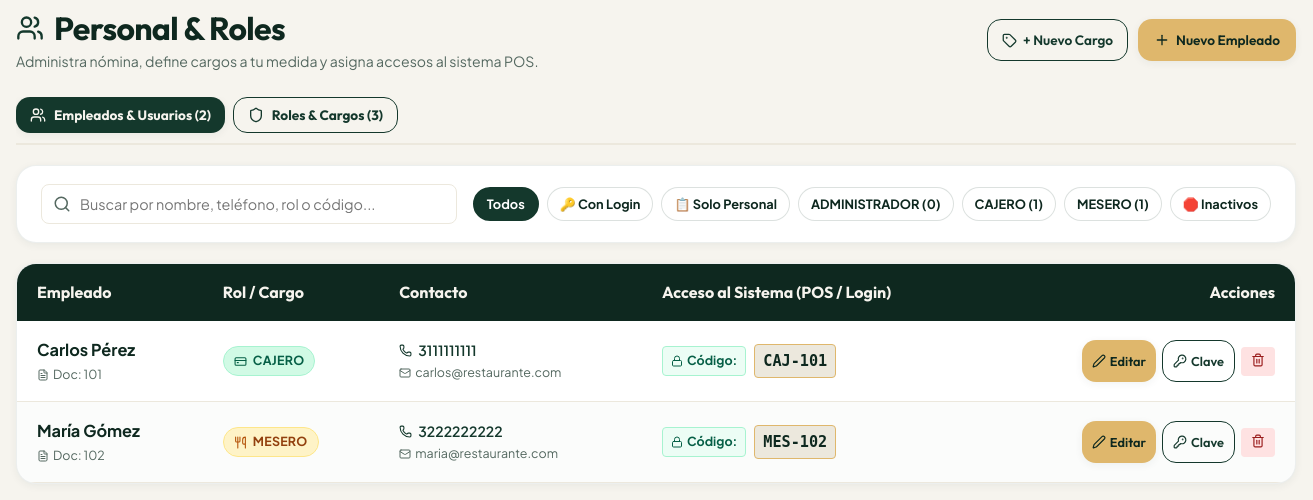
Test: UsuariosPage - Filtrado de Empleados/Usuarios y Búsqueda › debe filtrar correctamente por búsqueda de texto excluyendo elementos no coincidentes
The image size is (1313, 500).
Check: the text "Carlos Pérez" is shown, box 37,339 -> 135,360
Check: the text "María Gómez" is shown, box 37,420 -> 140,441
Type "Carlos" into the field with placeholder "Buscar por nombre, teléfono, rol o código..." at {"x": 249, "y": 204}, box 41,184 -> 457,224
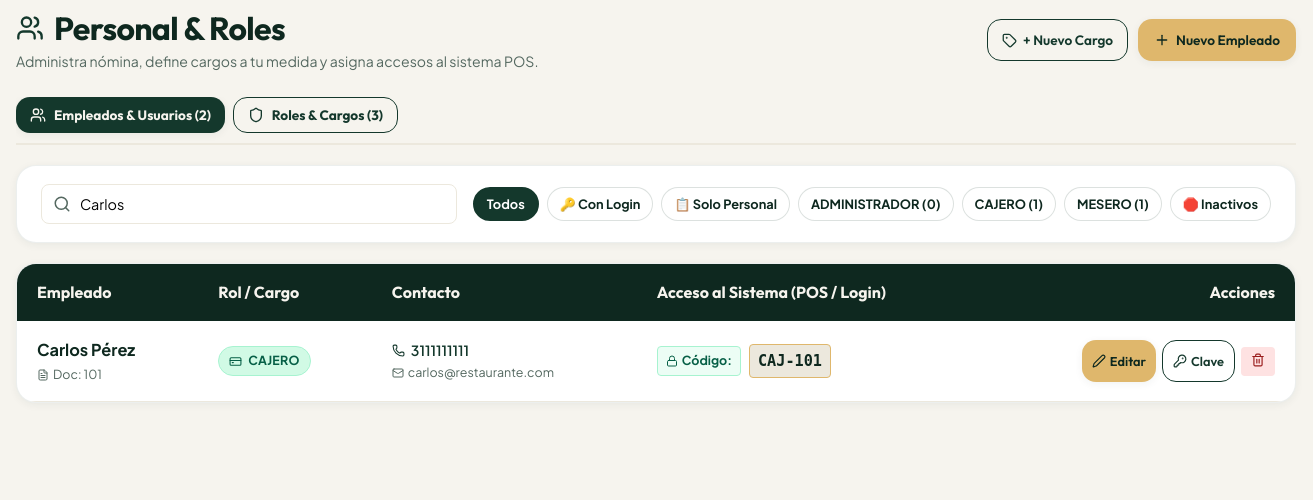
Check: the text "Carlos Pérez" is shown, box 37,339 -> 135,360
Check: the text "María Gómez" is gone
